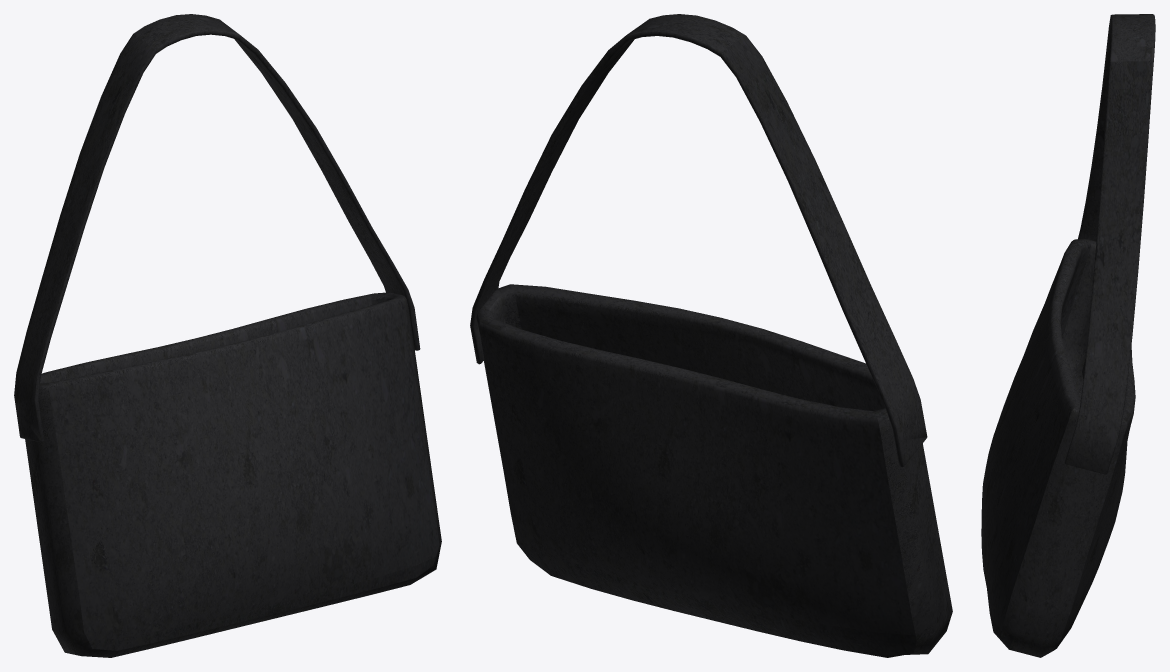
Rendered from Laptop bag.FBX.
3 renders of one model, left to right at view 1: azimuth 30°, elevation 25°; view 2: azimuth 150°, elevation 25°; view 3: azimuth 270°, elevation 25°, orthographic. The views are drawn at different scales.
Parts seen in each view (by area): view 1: Laptop bag; view 2: Laptop bag; view 3: Laptop bag.
Boxes of the visible parts, x1=… form: Laptop bag: x1=14, y1=14, x2=441, y2=657; Laptop bag: x1=470, y1=14, x2=952, y2=657; Laptop bag: x1=981, y1=14, x2=1155, y2=657.
Bounding box in the file's own units: 42.82 × 60.57 × 17.37.
Materials: 1 (1 with a texture image).
